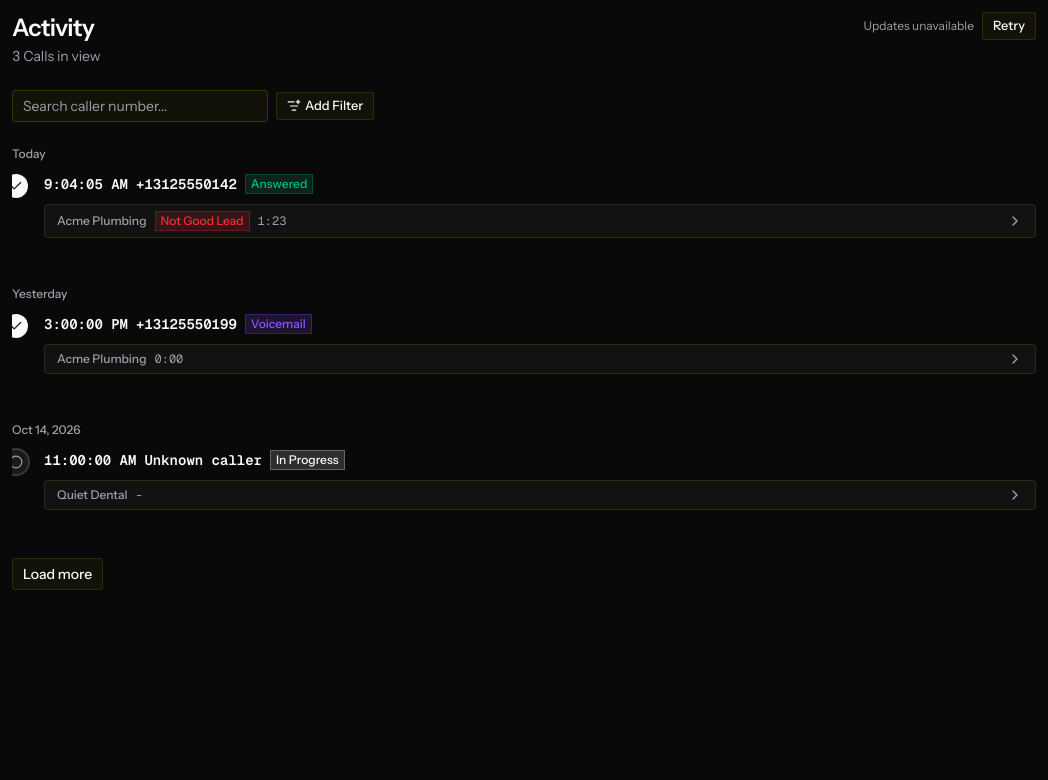
Test case: ActivityView › keeps existing entries visible after a refresh error, marks freshness unavailable, and retries inline
Expected: the text "Updates unavailable" is shown, top-left (864, 18), bottom-right (974, 34)
Expected: the text "3 Calls in view" is shown, top-left (12, 46), bottom-right (101, 66)
Click the button "Retry" at (1009, 26), box top-left (982, 12), bottom-right (1036, 40)
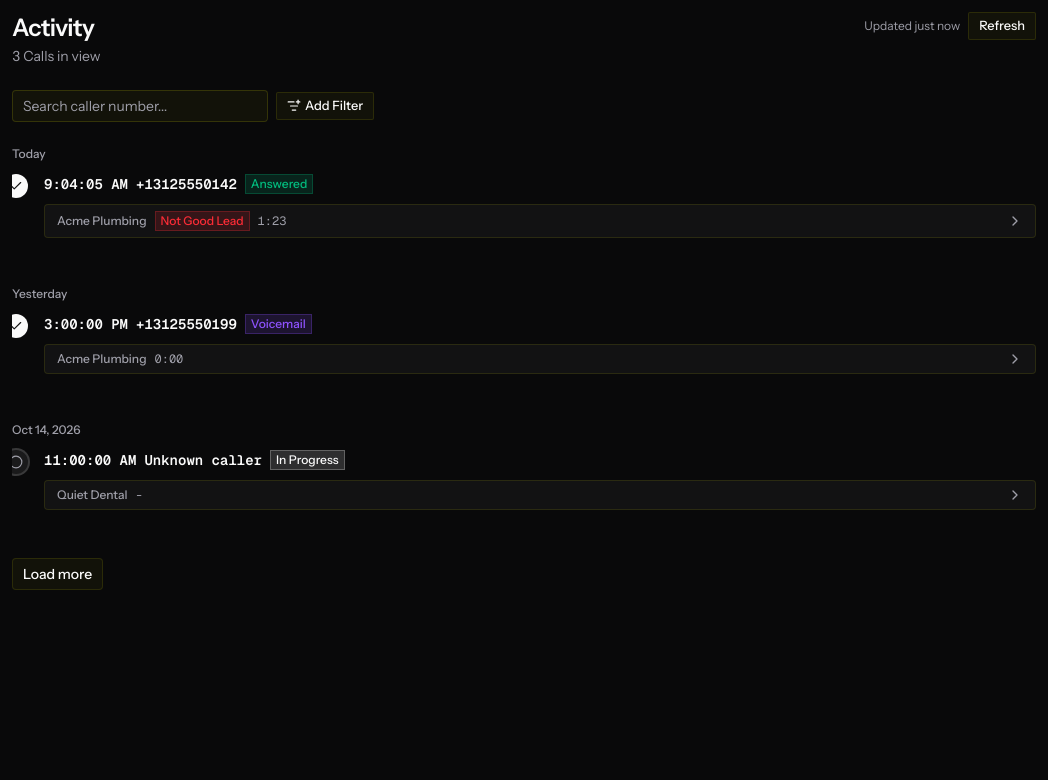
Result: the text "Updated just now" is shown at top-left (864, 18), bottom-right (960, 34)
Result: the button "Retry" is gone
